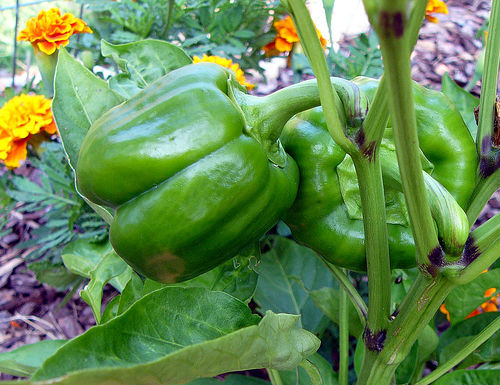capsicum: (73, 63, 365, 286), (279, 74, 480, 275)
